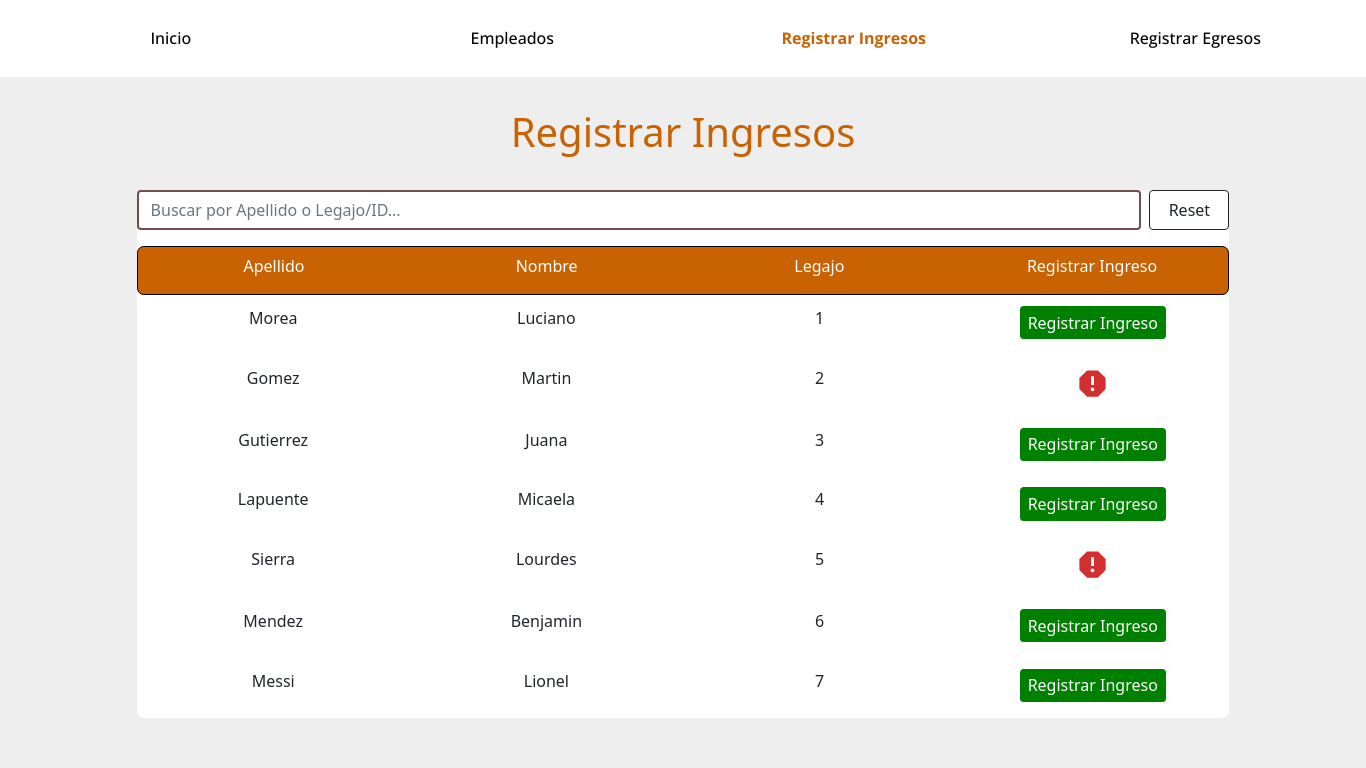
Test case: Ingresos › reset search
The width and height of the screenshot is (1366, 768).
Click the link "Registrar Ingresos" at {"x": 854, "y": 38}, box x1=782 y1=26 x2=926 y2=50
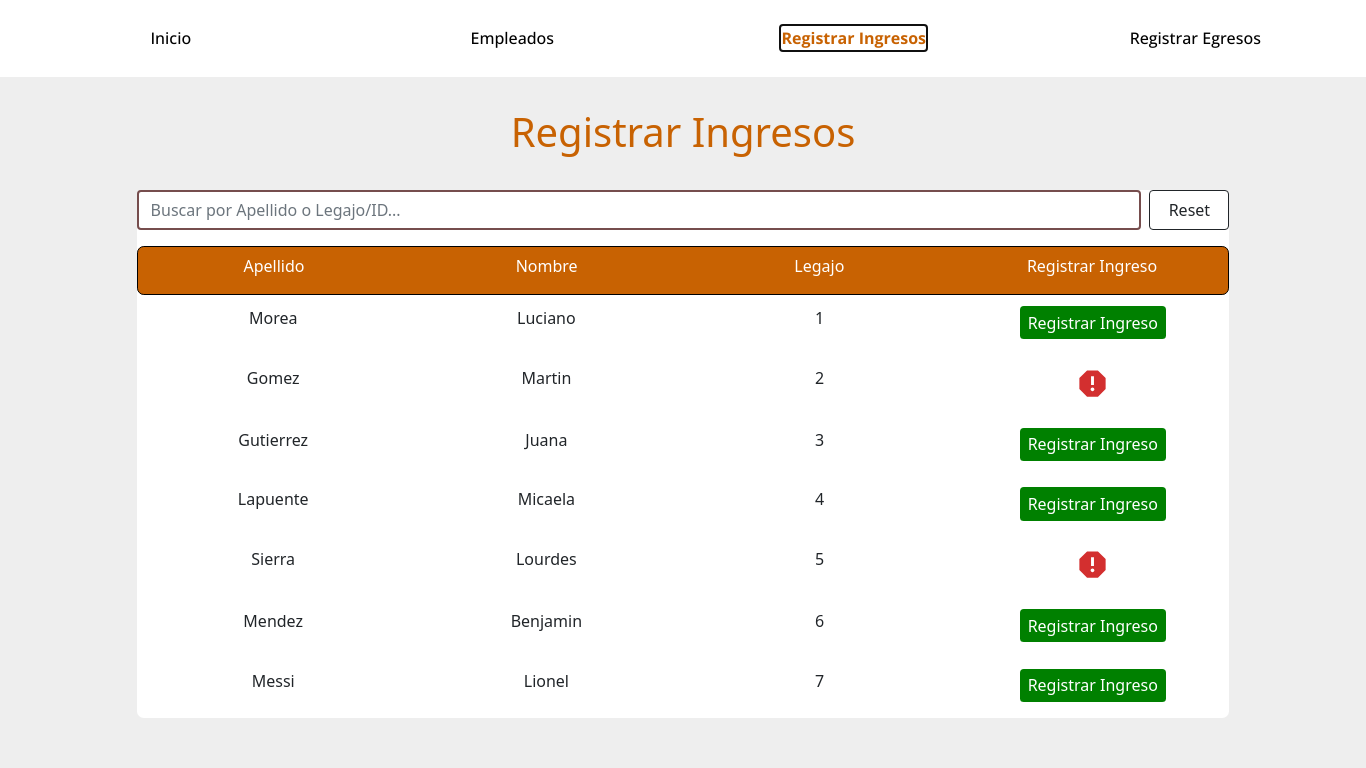
Type "Sie" into the search field named "search" at {"x": 639, "y": 210}, box x1=137 y1=190 x2=1141 y2=230
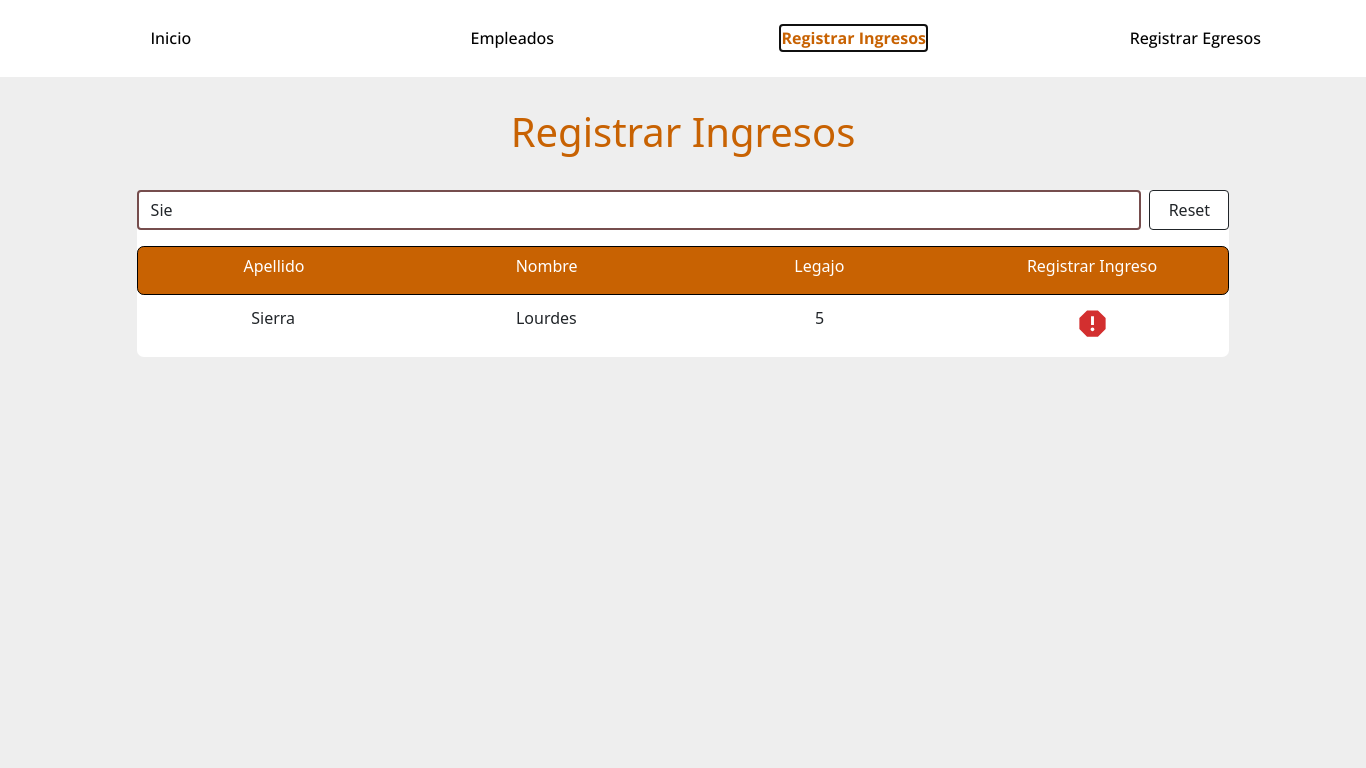
Expected: the text "Sierra" is shown, x1=251 y1=307 x2=295 y2=329
Click the button "Reset" at {"x": 1189, "y": 210}, box x1=1149 y1=190 x2=1229 y2=230
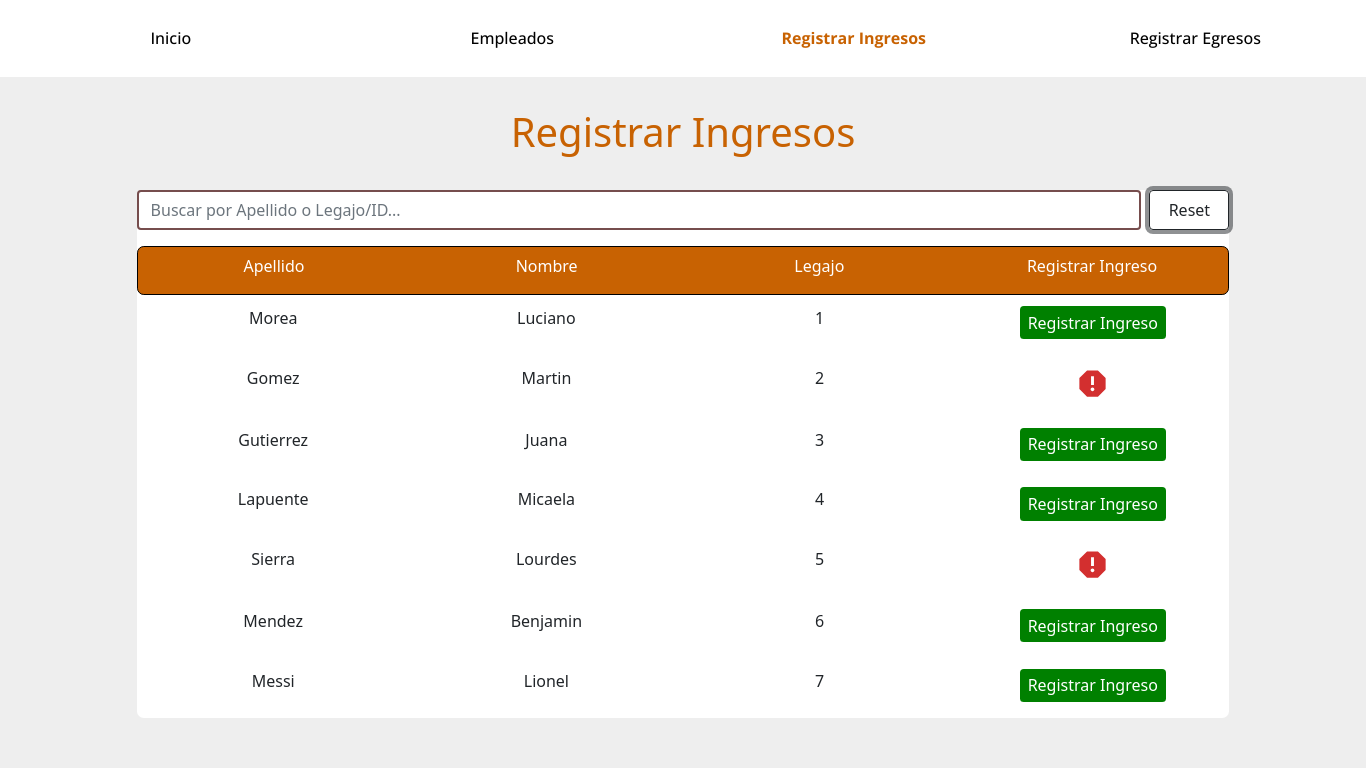
Expected: the text "Sierra" is shown, x1=251 y1=548 x2=295 y2=570
Expected: the text "Morea" is shown, x1=249 y1=307 x2=297 y2=329
Expected: the text "Lapuente" is shown, x1=238 y1=488 x2=309 y2=510
